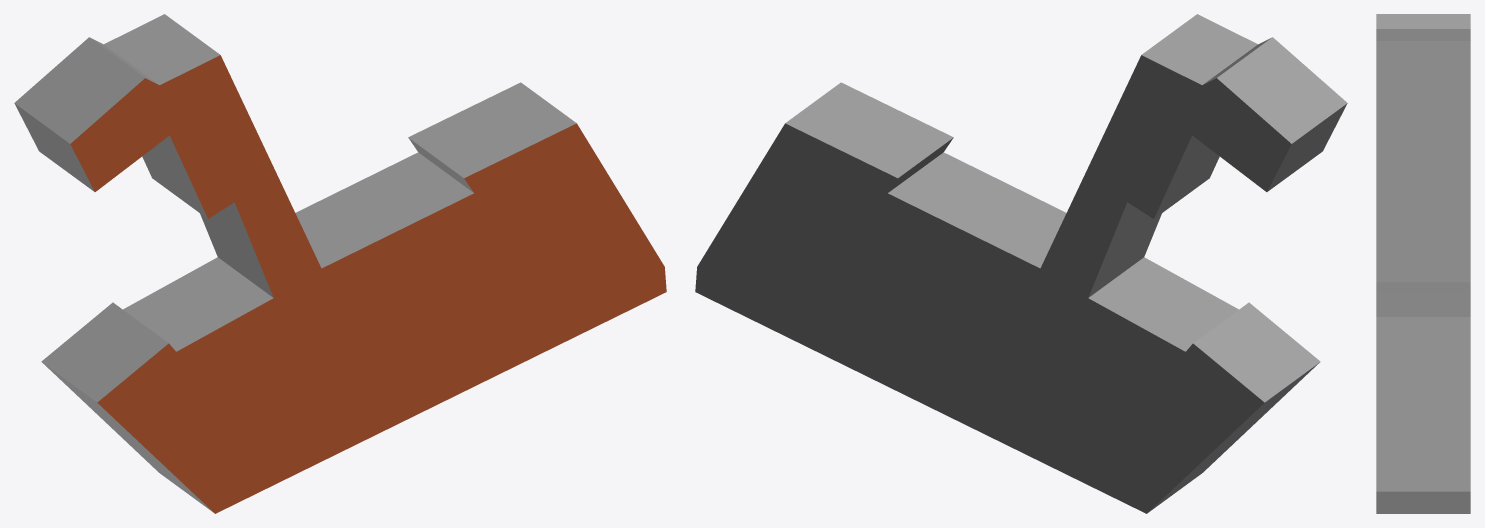
Rendered from construction_7101_assumed_A_Casa_h6m.obj.
The picture shows the model from 3 angles, left to right: view 1: azimuth 30°, elevation 25°; view 2: azimuth 150°, elevation 25°; view 3: azimuth 270°, elevation 25°; orthographic projection. The views are drawn at different scales.
Visible parts, largest first — view 1: construction_7101_assumed_A_Casa; view 2: construction_7101_assumed_A_Casa; view 3: construction_7101_assumed_A_Casa.
Part boxes in pixels (x1,y1,x2,y2): construction_7101_assumed_A_Casa: [14, 14, 666, 513]; construction_7101_assumed_A_Casa: [695, 14, 1347, 513]; construction_7101_assumed_A_Casa: [1376, 14, 1470, 513].
Size of the model in its own units: 36.9 by 27.06 by 6.
